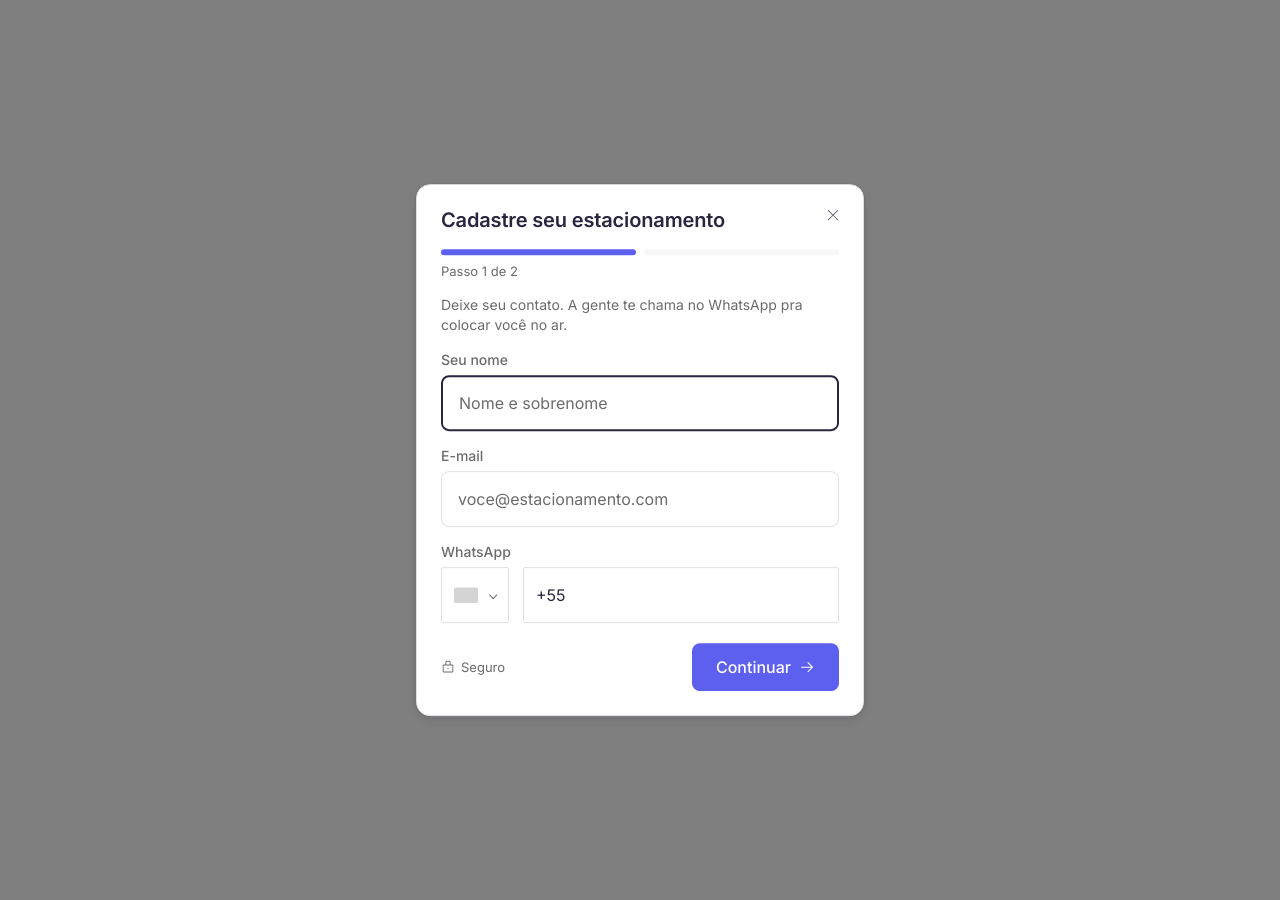
it: PartnerLeadModal › com e-mail + WhatsApp válidos, salva (captura abandono) e avança pro passo 2
Type "Ana Souza" into the field labelled "Seu nome" at (640, 403), box top-left (441, 375), bottom-right (839, 431)
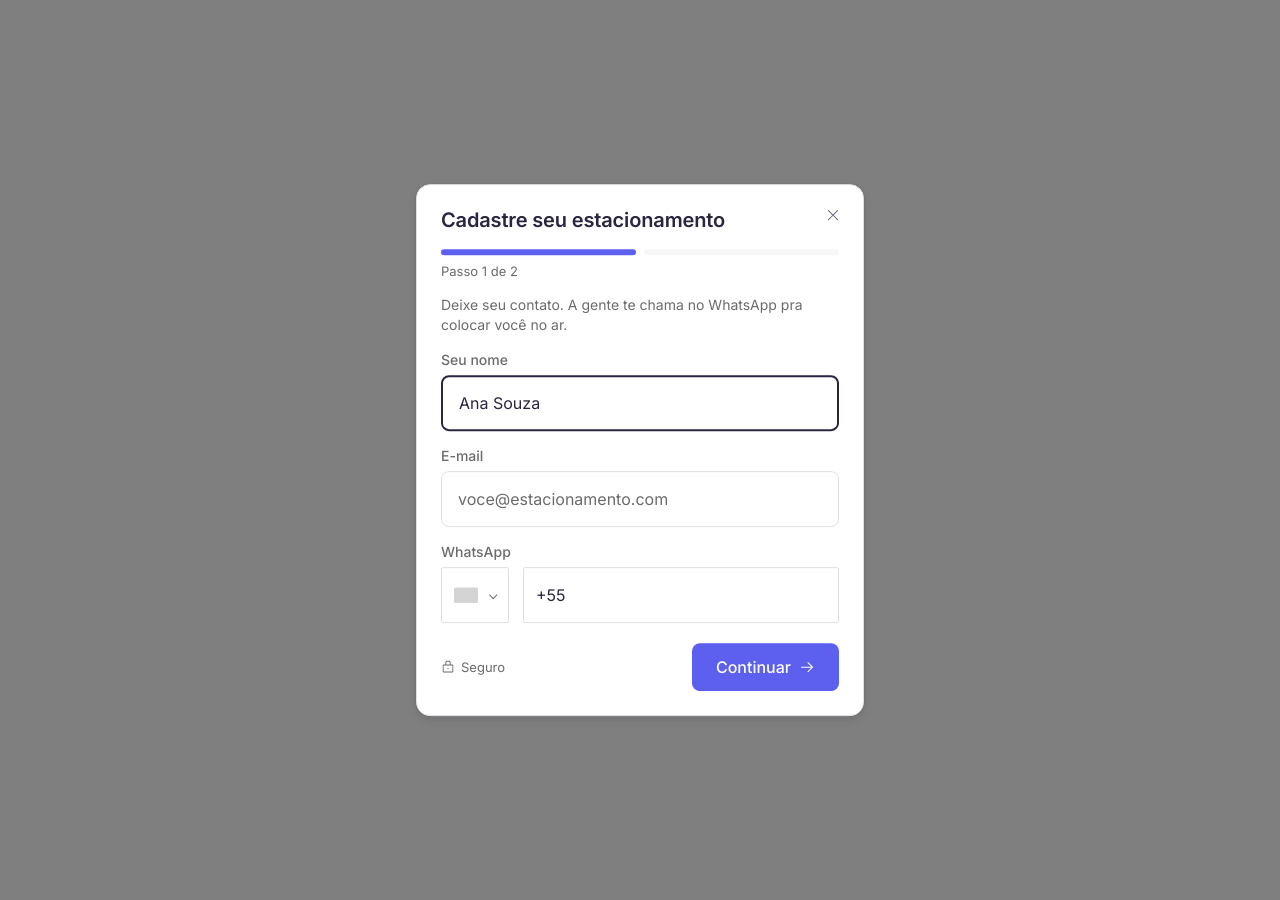
Type "dono@estacionamento.com" into the field labelled "E-mail" at (640, 499), box top-left (441, 471), bottom-right (839, 527)
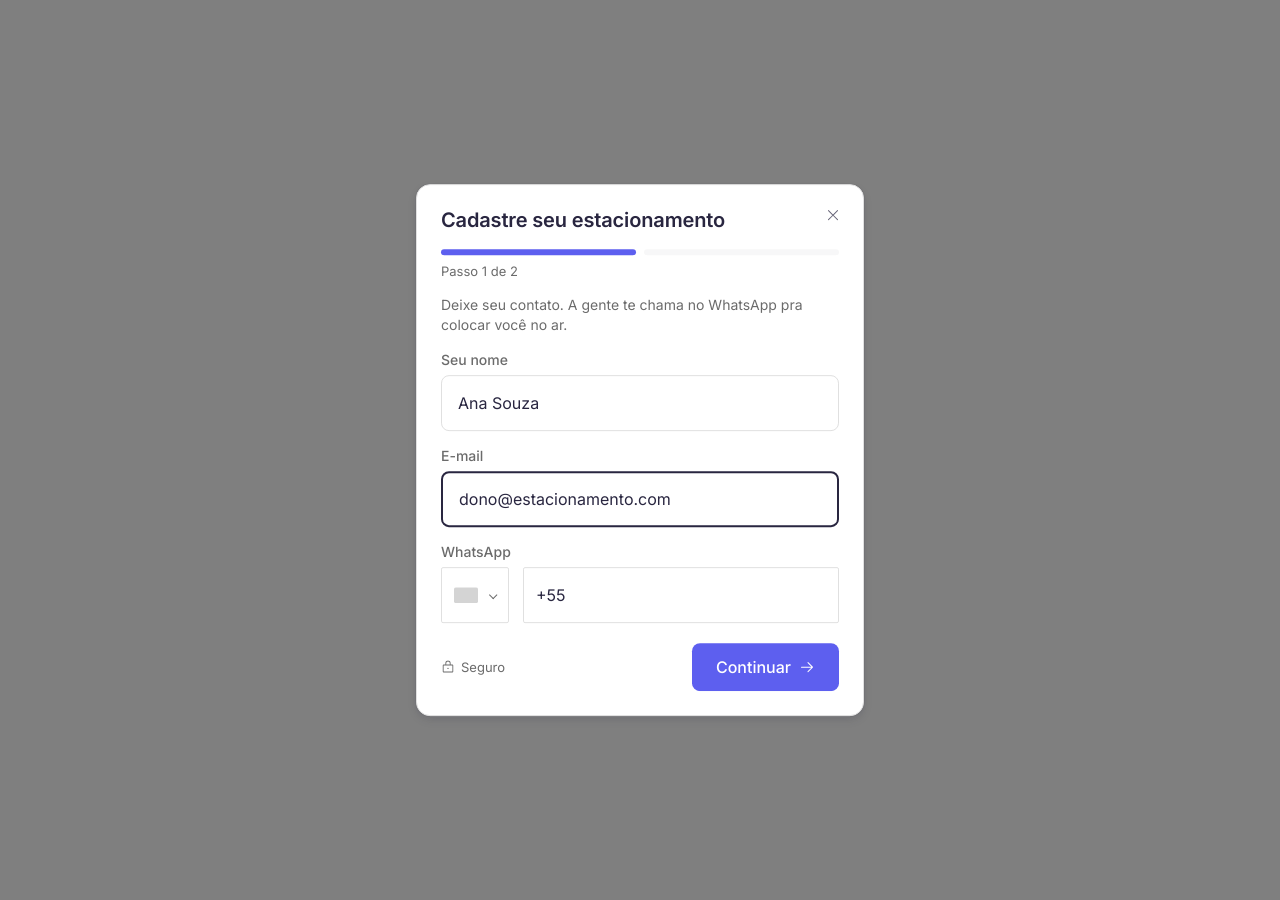
Type "11991234567" into the field labelled "WhatsApp" at (681, 595), box top-left (523, 567), bottom-right (839, 623)
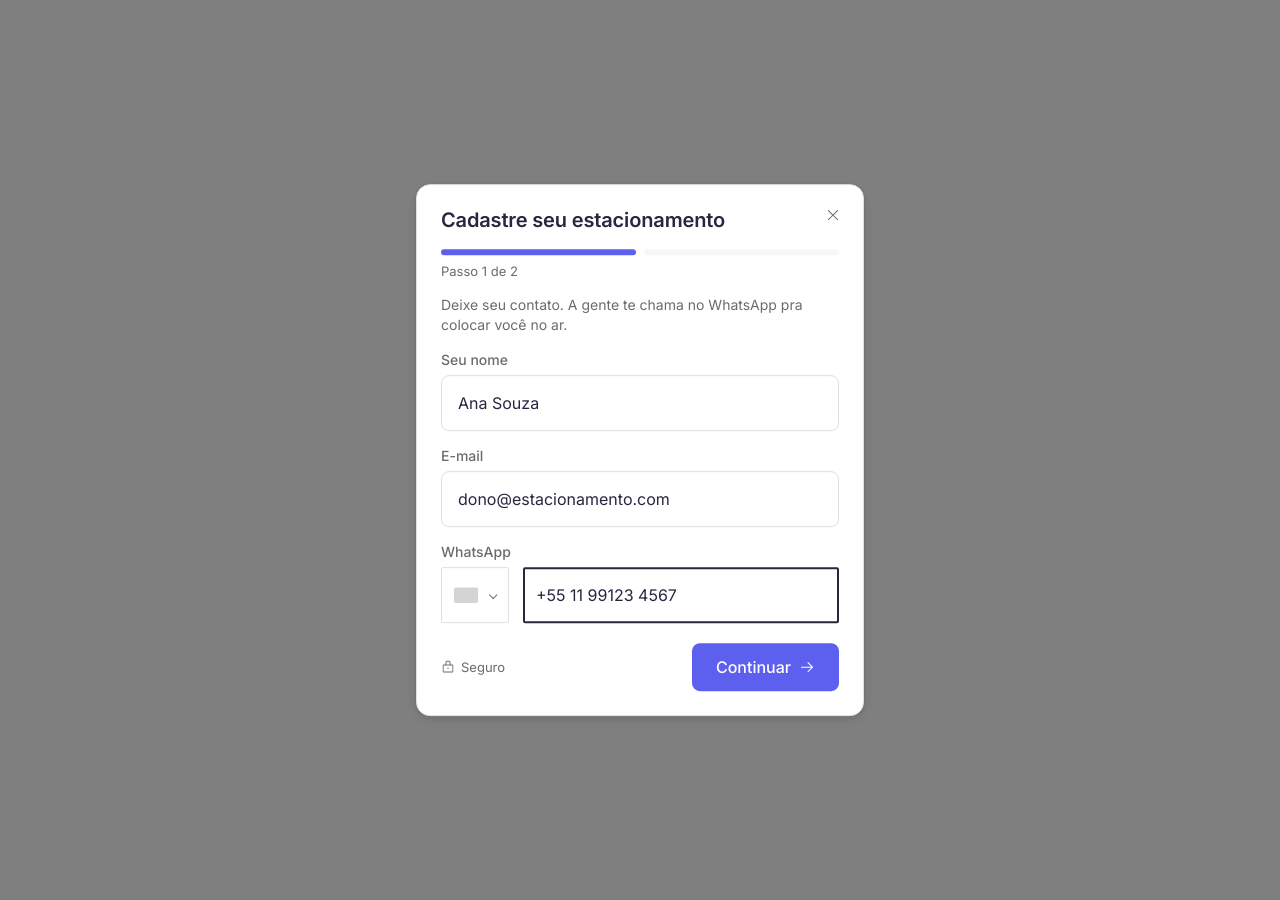
Click the button "Continuar" at (766, 667), box top-left (692, 643), bottom-right (839, 691)
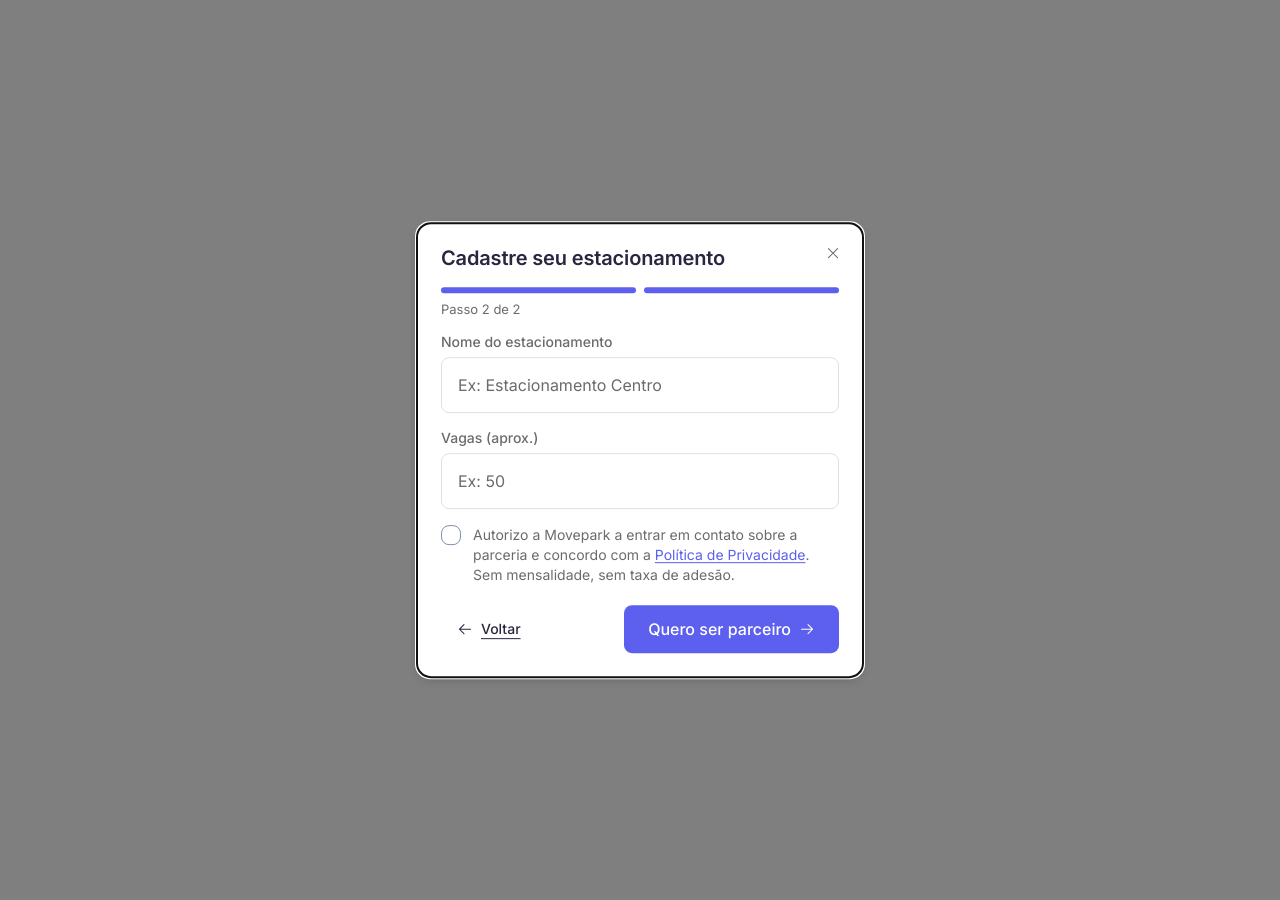
expect the text "Passo 2 de 2" is shown: met, box top-left (441, 301), bottom-right (520, 317)
